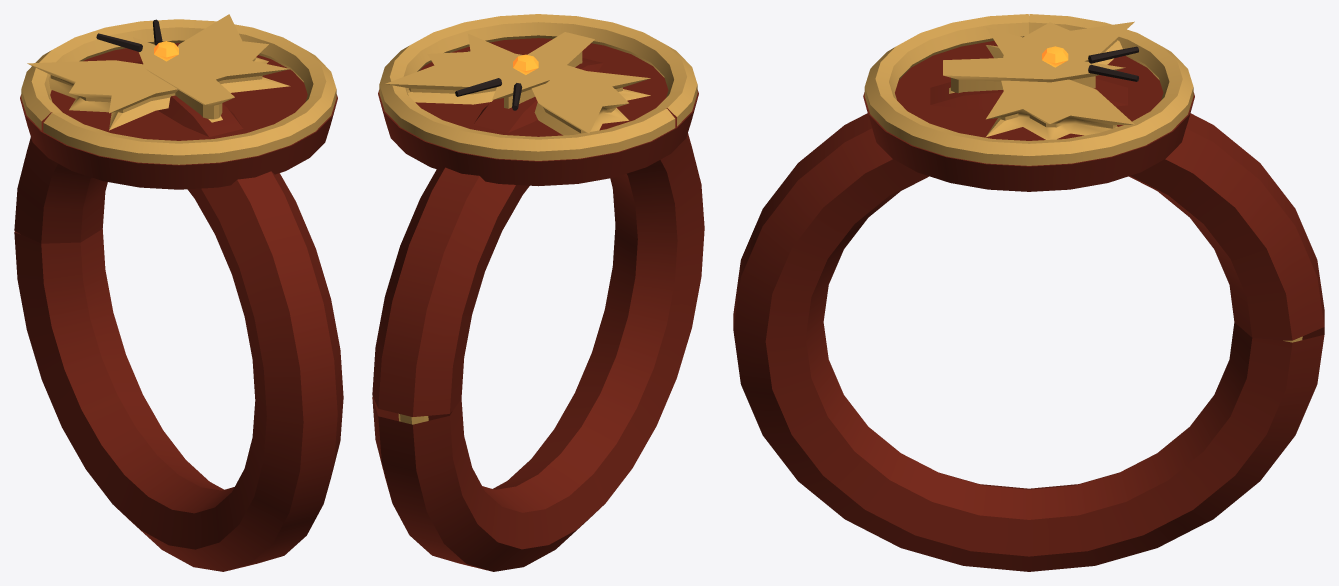
Rendered from boss_dragonforge_accessory_2.glb.
3 views of the same model, side by side, from view 1: azimuth 30°, elevation 25°; view 2: azimuth 150°, elevation 25°; view 3: azimuth 270°, elevation 25° (orthographic). The views are drawn at different scales.
Visible parts, largest first — view 1: boss_dragonforge_accessory_2; view 2: boss_dragonforge_accessory_2; view 3: boss_dragonforge_accessory_2.
Boxes of the visible parts, left/top/right/bottom form: boss_dragonforge_accessory_2: left=14, top=14, right=343, bottom=571; boss_dragonforge_accessory_2: left=372, top=14, right=704, bottom=571; boss_dragonforge_accessory_2: left=733, top=14, right=1324, bottom=571.
Bounding box in the file's own units: 0.084 × 0.1438 × 0.1496.
